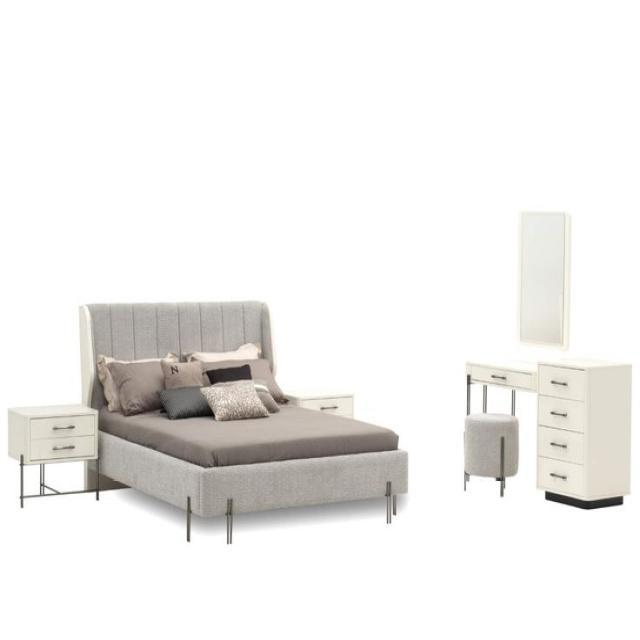obstacle: (77, 298, 409, 544), (536, 358, 632, 509), (2, 402, 102, 500)
